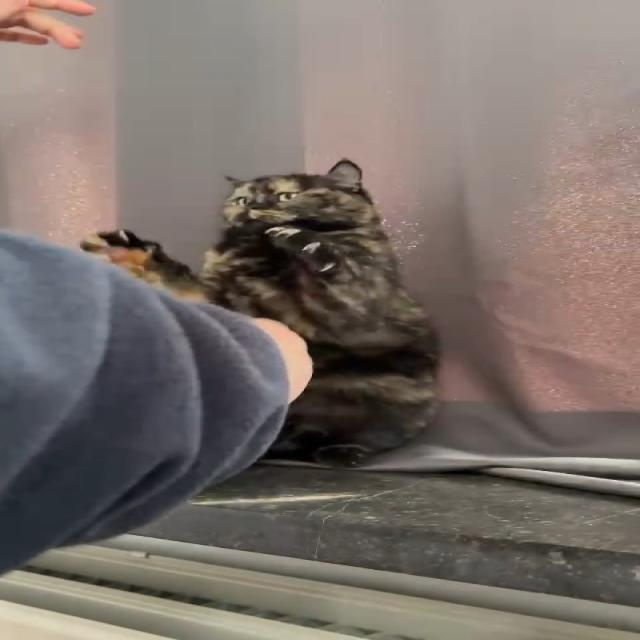authorized: (79, 157, 441, 467)
